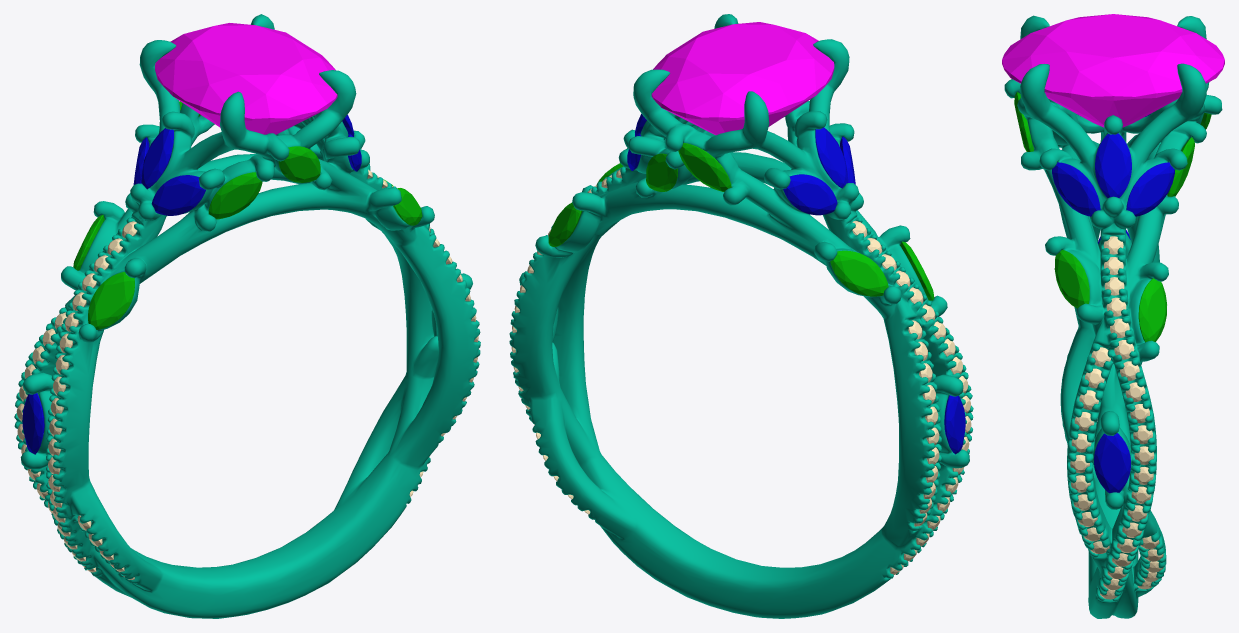
File: BE1LCE6352_OV_200ct_RENDER.glb
3 views of the same model, side by side, from view 1: azimuth 30°, elevation 25°; view 2: azimuth 150°, elevation 25°; view 3: azimuth 270°, elevation 25° (orthographic).
Parts seen in each view (by area): view 1: Metal 01, CS_Diamond_Oval, Emerald_Marquise_side.002, Diamond_Marquise_side.005, Emerald_Marquise_side.005, Diamond_Marquise_side.003, Emerald_Marquise_side.007, Diamond_Marquise_side.007, Emerald_Marquise_side.001; view 2: Metal 01, CS_Diamond_Oval, Emerald_Marquise_side.003, Diamond_Marquise_side.004, Emerald_Marquise_side.006, Diamond_Marquise_side.003, Diamond_Marquise_side.007, Emerald_Marquise_side.004, Emerald_Marquise_side; view 3: Metal 01, CS_Diamond_Oval, Diamond_Marquise_side, Diamond_Marquise_side.006, Diamond_Marquise_side.002, Diamond_Marquise_side.001, Emerald_Marquise_side.001, Emerald_Marquise_side, Emerald_Marquise_side.004, Emerald_Marquise_side.007.
Part boxes in pixels (bbox=[...]): Metal 01: bbox=[14, 14, 480, 618]; CS_Diamond_Oval: bbox=[155, 23, 337, 134]; Emerald_Marquise_side.002: bbox=[88, 272, 134, 329]; Diamond_Marquise_side.005: bbox=[151, 175, 205, 215]; Emerald_Marquise_side.005: bbox=[208, 172, 262, 219]; Diamond_Marquise_side.003: bbox=[141, 128, 173, 188]; Emerald_Marquise_side.007: bbox=[278, 146, 320, 182]; Diamond_Marquise_side.007: bbox=[22, 393, 44, 454]; Emerald_Marquise_side.001: bbox=[393, 188, 422, 225]; Metal 01: bbox=[509, 14, 973, 618]; CS_Diamond_Oval: bbox=[651, 22, 834, 135]; Emerald_Marquise_side.003: bbox=[830, 250, 888, 296]; Diamond_Marquise_side.004: bbox=[783, 174, 837, 215]; Emerald_Marquise_side.006: bbox=[678, 143, 731, 191]; Diamond_Marquise_side.003: bbox=[815, 127, 847, 188]; Diamond_Marquise_side.007: bbox=[944, 395, 965, 454]; Emerald_Marquise_side.004: bbox=[646, 153, 677, 191]; Emerald_Marquise_side: bbox=[548, 202, 582, 246]; Metal 01: bbox=[1004, 15, 1222, 618]; CS_Diamond_Oval: bbox=[1002, 14, 1224, 127]; Diamond_Marquise_side: bbox=[1095, 133, 1131, 197]; Diamond_Marquise_side.006: bbox=[1094, 433, 1130, 493]; Diamond_Marquise_side.002: bbox=[1126, 162, 1174, 216]; Diamond_Marquise_side.001: bbox=[1052, 162, 1100, 216]; Emerald_Marquise_side.001: bbox=[1054, 249, 1089, 308]; Emerald_Marquise_side: bbox=[1138, 278, 1166, 342]; Emerald_Marquise_side.004: bbox=[1167, 137, 1194, 196]; Emerald_Marquise_side.007: bbox=[1014, 92, 1033, 151].
Size of the model in its own units: 21.22 by 24.98 by 9.
